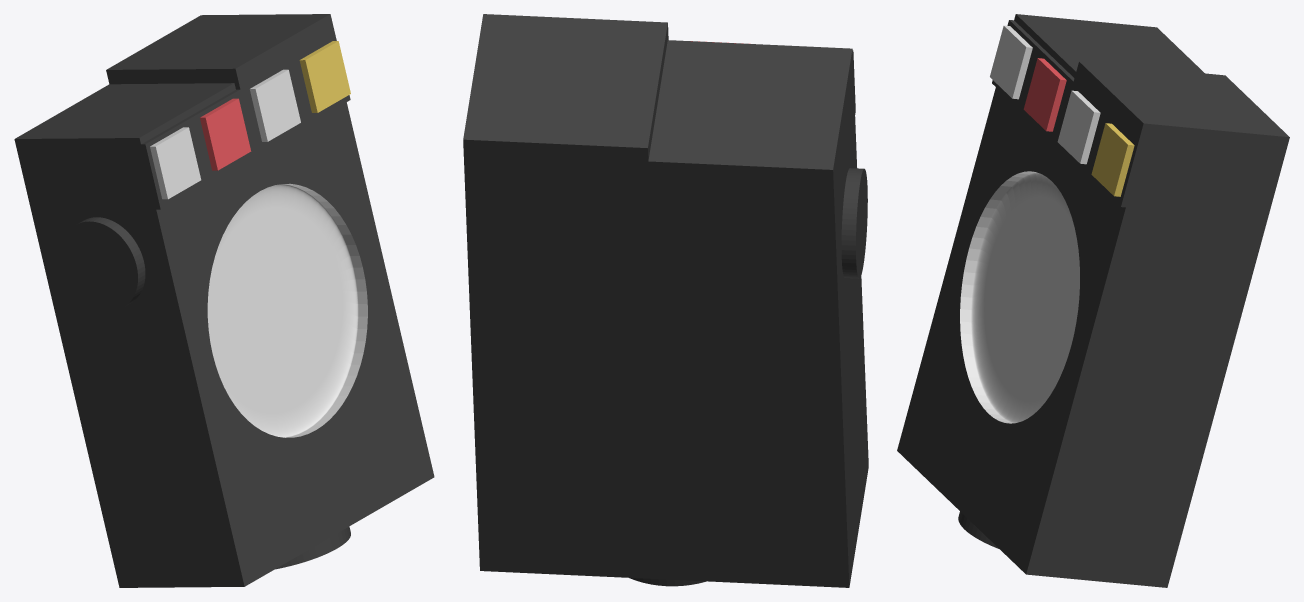
Rendered from tech tablet.fbx.
3 views of the same model, side by side, from view 1: azimuth 30°, elevation 25°; view 2: azimuth 150°, elevation 25°; view 3: azimuth 270°, elevation 25° (orthographic). The views are drawn at different scales.
Visible parts, largest first — view 1: Cylinder.023; view 2: Cylinder.023; view 3: Cylinder.023.
Boxes of the visible parts, x1,y1,x2,y2 form: Cylinder.023: [14, 14, 434, 587]; Cylinder.023: [463, 14, 868, 587]; Cylinder.023: [897, 14, 1289, 587].
Size of the model in its own units: 368 by 480 by 355.
